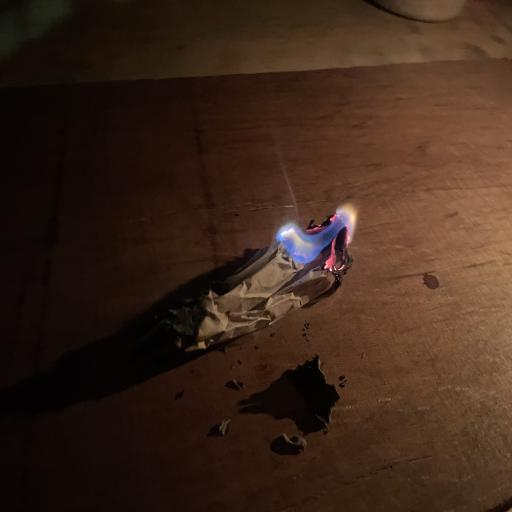fire: (276, 204, 357, 274)
